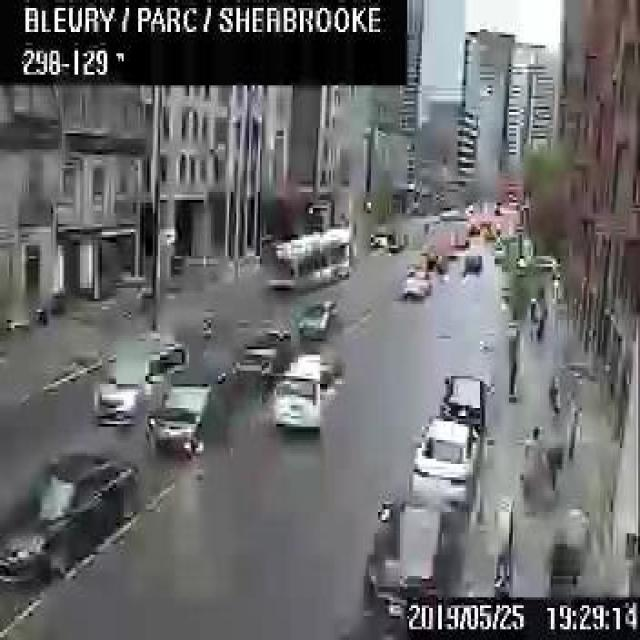bus: (265, 221, 355, 291)
pedestrian: (521, 422, 544, 509), (566, 404, 580, 457), (546, 371, 558, 425)
vehicle: (0, 451, 140, 584), (362, 488, 458, 626), (91, 326, 187, 424), (407, 414, 478, 508), (272, 352, 344, 428), (143, 382, 214, 452), (231, 320, 290, 380), (438, 373, 484, 429), (297, 298, 338, 338), (401, 264, 431, 298), (461, 250, 481, 275)
